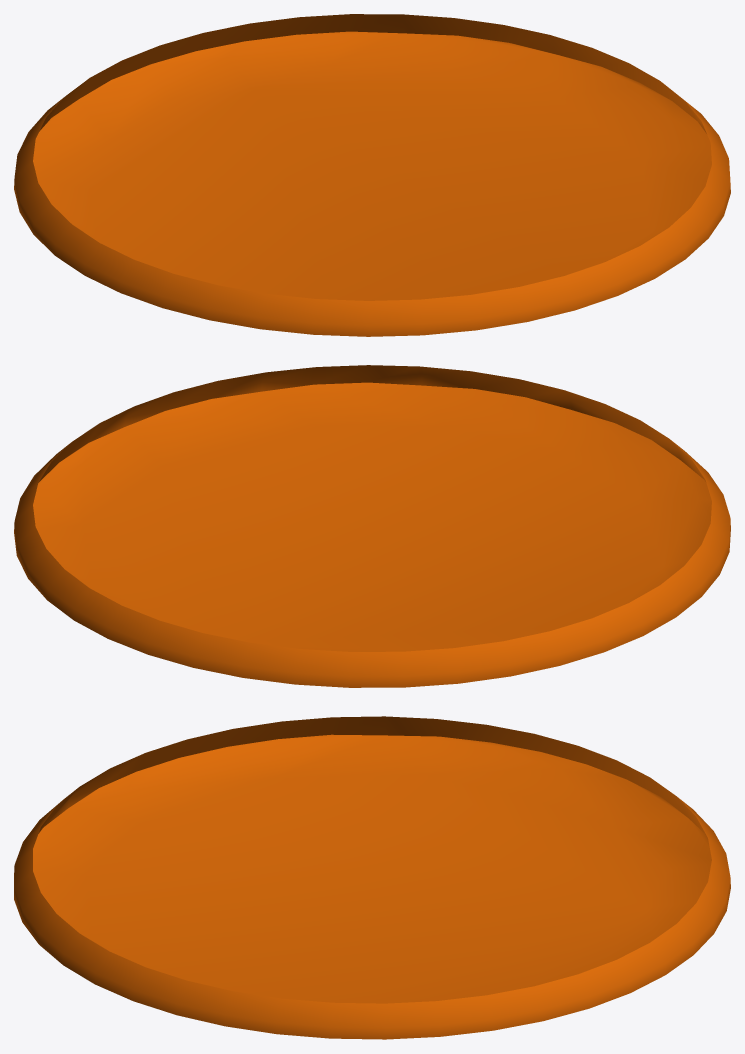
Rendered from fris.fbx.
3 views of the same model, one above another, from view 1: azimuth 30°, elevation 25°; view 2: azimuth 150°, elevation 25°; view 3: azimuth 270°, elevation 25° (orthographic).
Visible parts, largest first — view 1: TARELKA; view 2: TARELKA; view 3: TARELKA.
Part boxes in pixels (bbox=[...]): TARELKA: bbox=[14, 14, 730, 336]; TARELKA: bbox=[14, 365, 730, 687]; TARELKA: bbox=[14, 716, 730, 1039].
Bounding box in the file's own units: 22193 × 1699 × 22177.
Materials: 1 (1 with a texture image).
